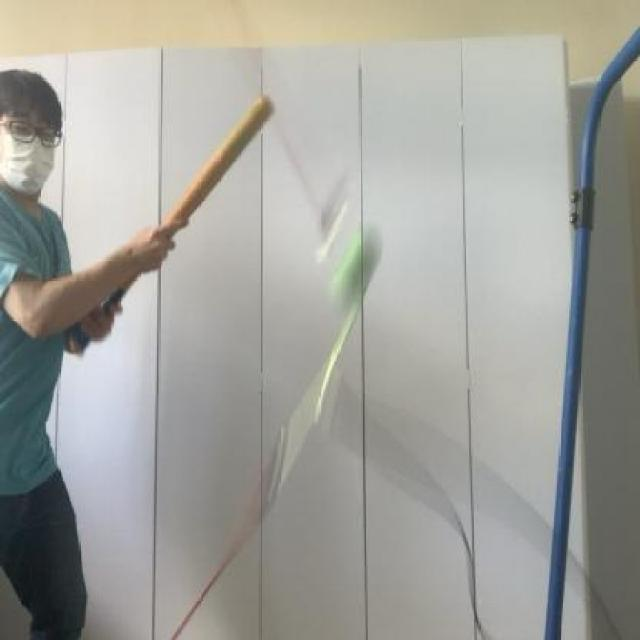baseball: (310, 207, 396, 313)
